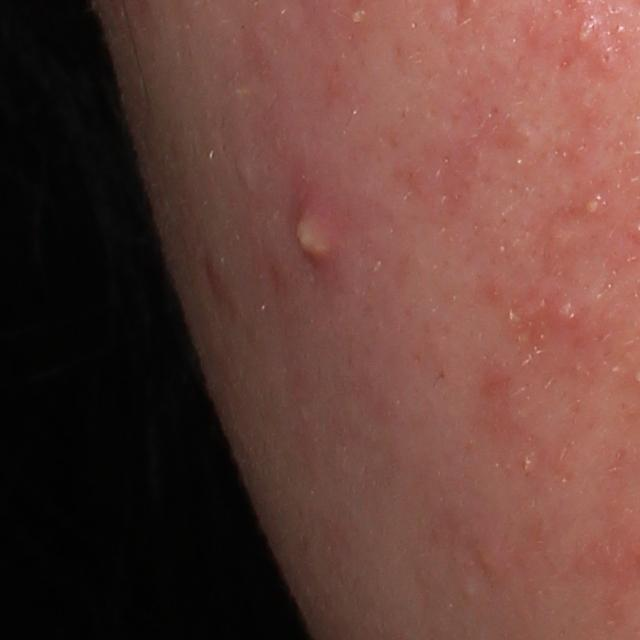comedo: (595, 43, 620, 73), (459, 581, 481, 600)
pustule: (296, 206, 334, 261), (572, 24, 596, 46), (582, 196, 602, 218)
